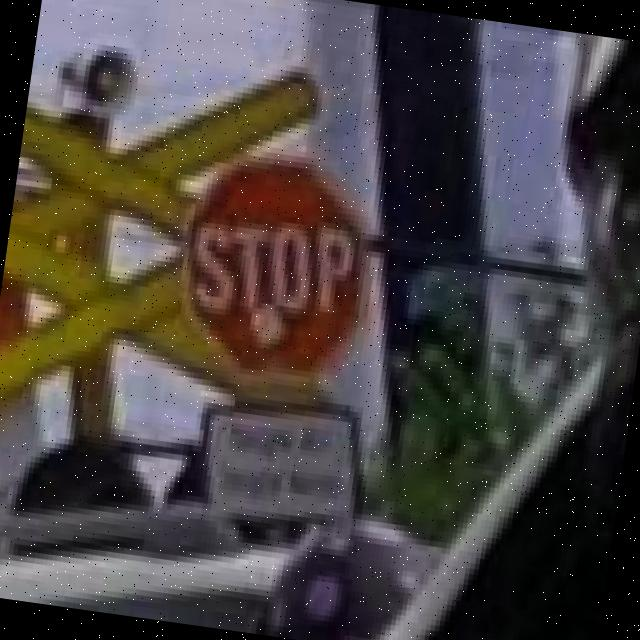Stop: (168, 148, 392, 402)
